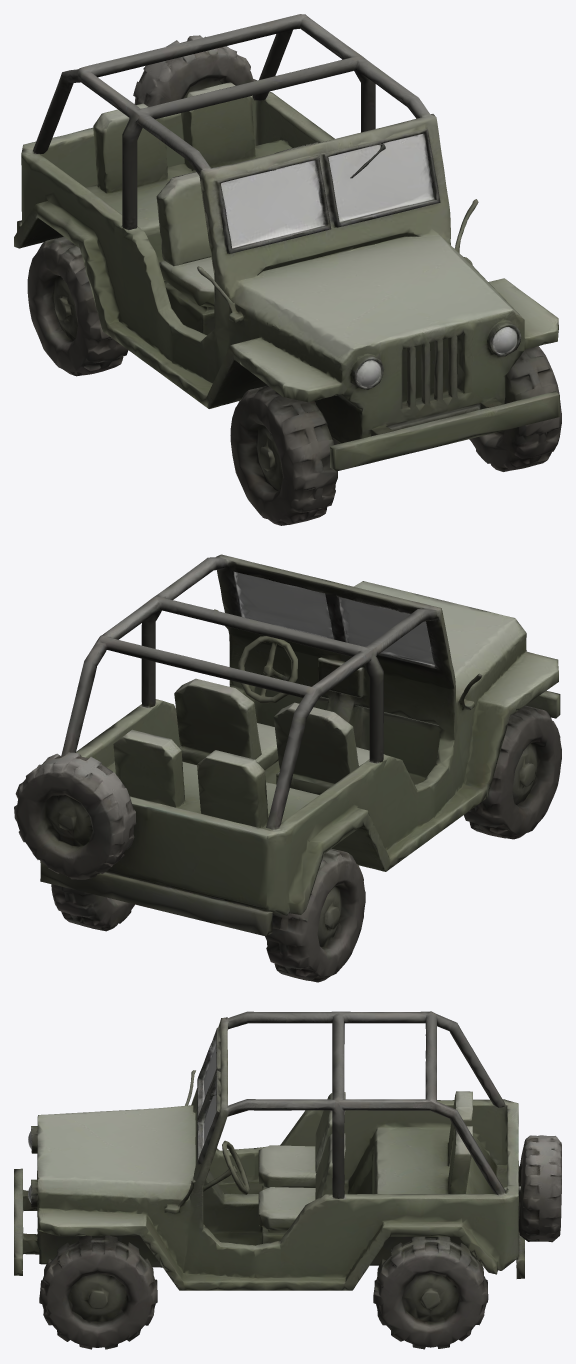
Rendered from exercito_jipe.glb.
The picture shows the model from 3 angles, top to bottom: view 1: azimuth 30°, elevation 25°; view 2: azimuth 150°, elevation 25°; view 3: azimuth 270°, elevation 25°; orthographic projection. The views are drawn at different scales.
Visible parts, largest first — view 1: tripo_node_fb9301c7-a5de-45a0-ad23-2a1e68462db1; view 2: tripo_node_fb9301c7-a5de-45a0-ad23-2a1e68462db1; view 3: tripo_node_fb9301c7-a5de-45a0-ad23-2a1e68462db1.
Part boxes in pixels (x1,y1,x2,y2): tripo_node_fb9301c7-a5de-45a0-ad23-2a1e68462db1: (14,14,561,525); tripo_node_fb9301c7-a5de-45a0-ad23-2a1e68462db1: (14,554,561,982); tripo_node_fb9301c7-a5de-45a0-ad23-2a1e68462db1: (14,1011,561,1349).
Bounding box in the file's own units: 2.07 × 2.12 × 4.3.
1 material, 1 textured.
